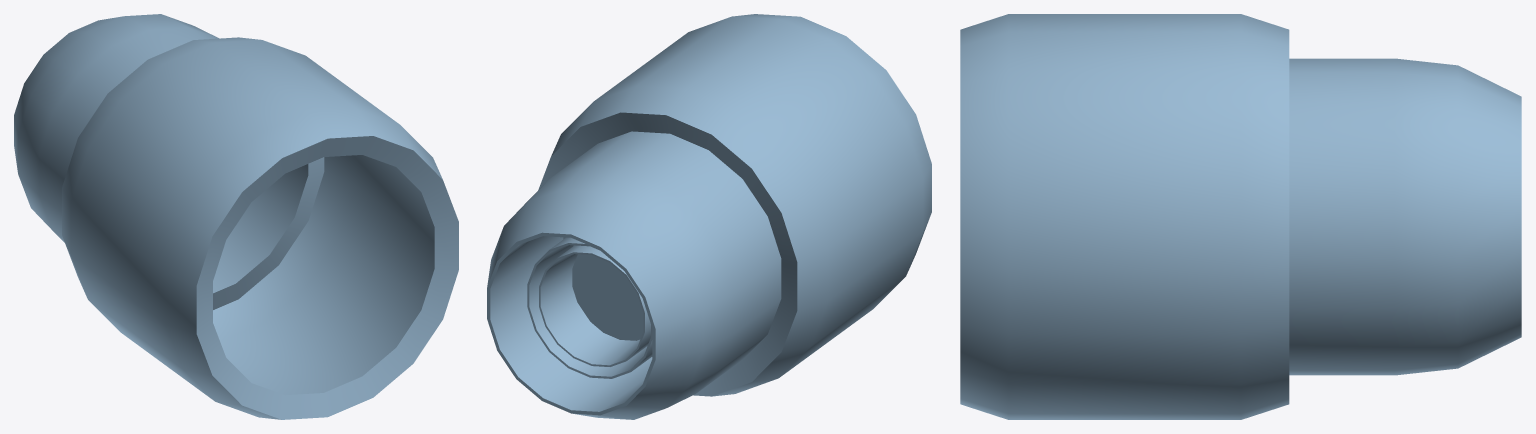
The model's file is engine 1 back part.FBX.
The picture shows the model from 3 angles, left to right: view 1: azimuth 30°, elevation 25°; view 2: azimuth 150°, elevation 25°; view 3: azimuth 270°, elevation 25°; orthographic projection. The views are drawn at different scales.
Visible parts, largest first — view 1: Cylinder1460; view 2: Cylinder1460; view 3: Cylinder1460.
Part boxes in pixels (x1=…): Cylinder1460: x1=14, y1=14, x2=458, y2=419; Cylinder1460: x1=487, y1=14, x2=931, y2=419; Cylinder1460: x1=960, y1=14, x2=1521, y2=419.
Size of the model in its own units: 0.0399 by 0.0558 by 0.0405.
